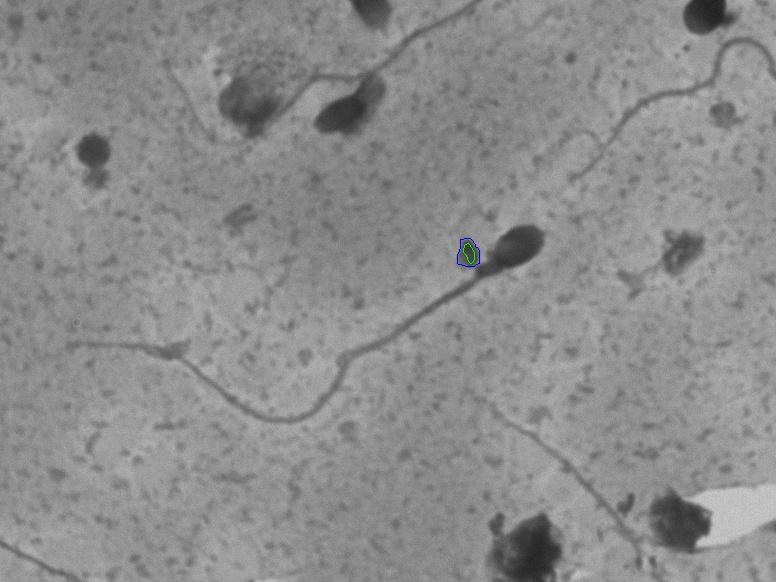Abnormal: (95, 216, 568, 437)
